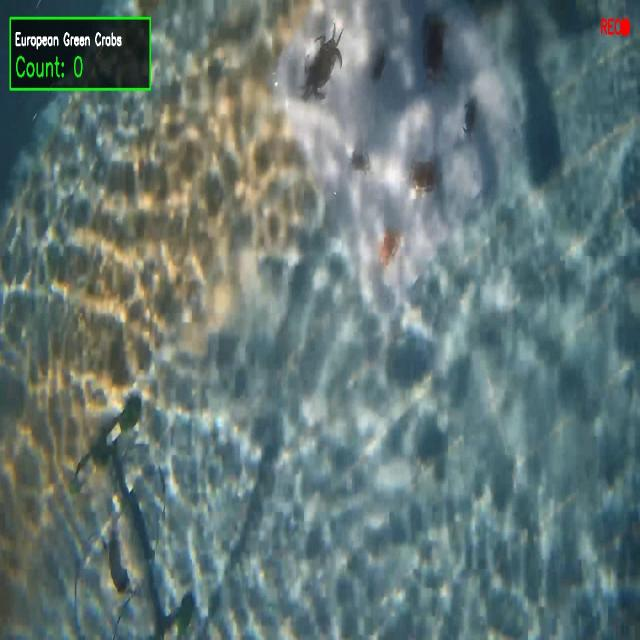European_Green_Crab: (289, 12, 351, 109), (459, 94, 480, 138), (348, 149, 372, 176)
